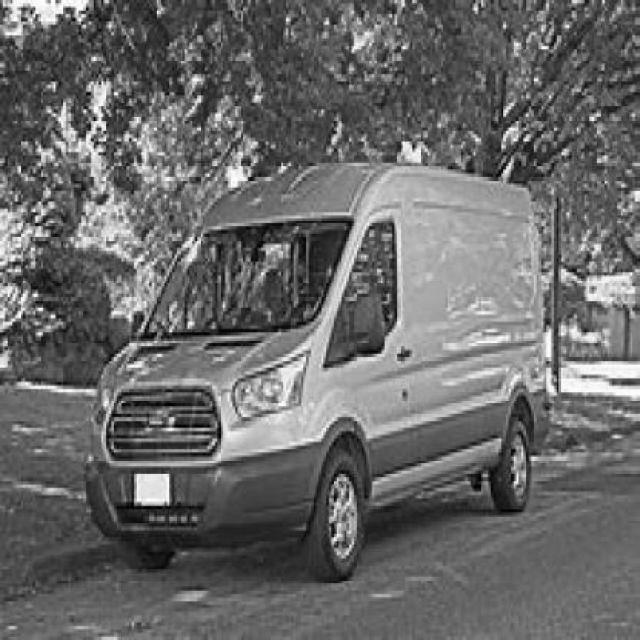Van: (85, 163, 550, 585)
